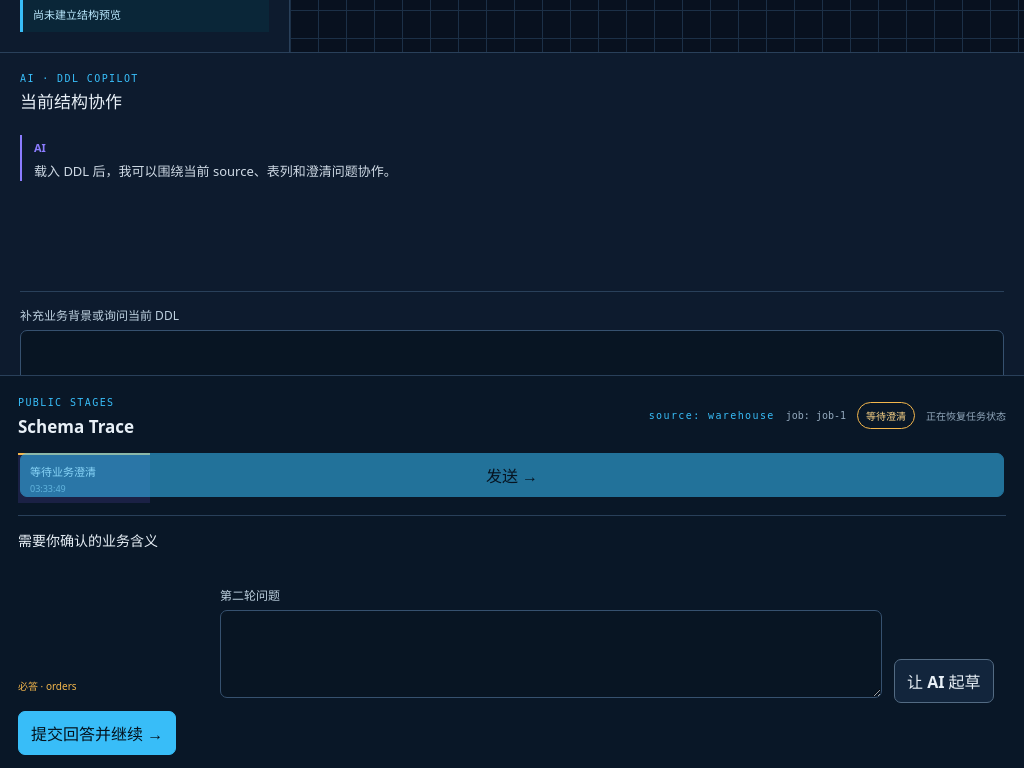
workbench chat › keeps clarification answers when the acceptance response is invalid
(page scrolled)
Step 1. Type "人工业务依据" into the text box labelled "第二轮问题" → (551, 654), box 220,610 -> 882,698
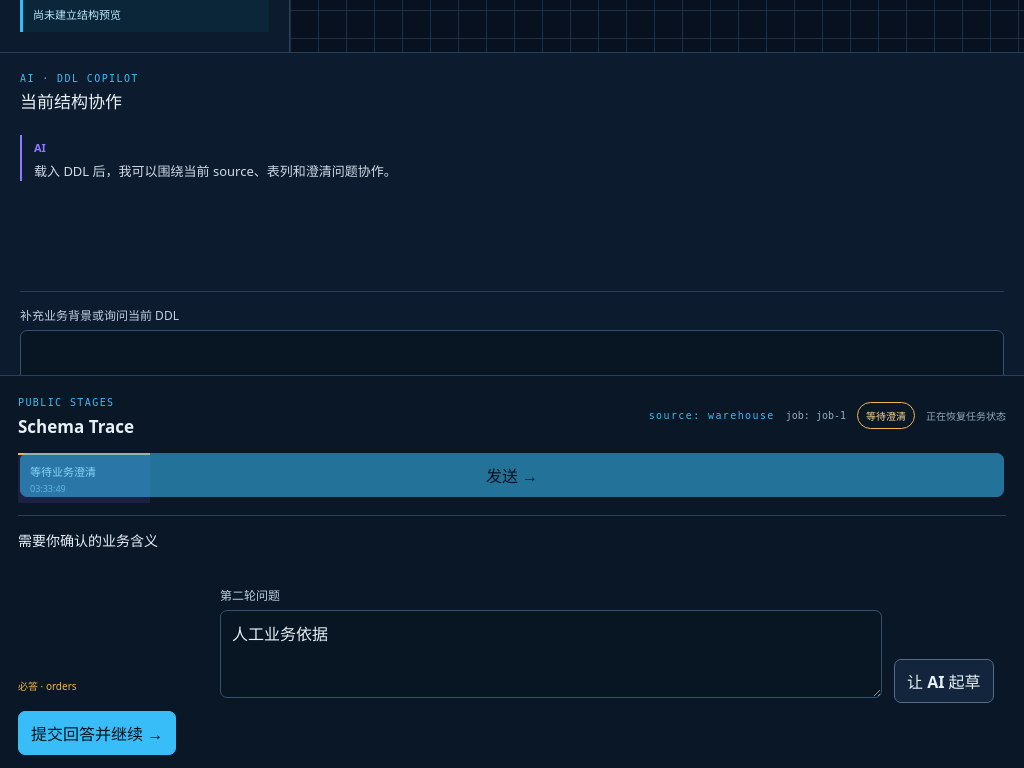
Step 2. Click the button "提交回答并继续 →" → (97, 733), box 18,711 -> 176,755
(page scrolled)
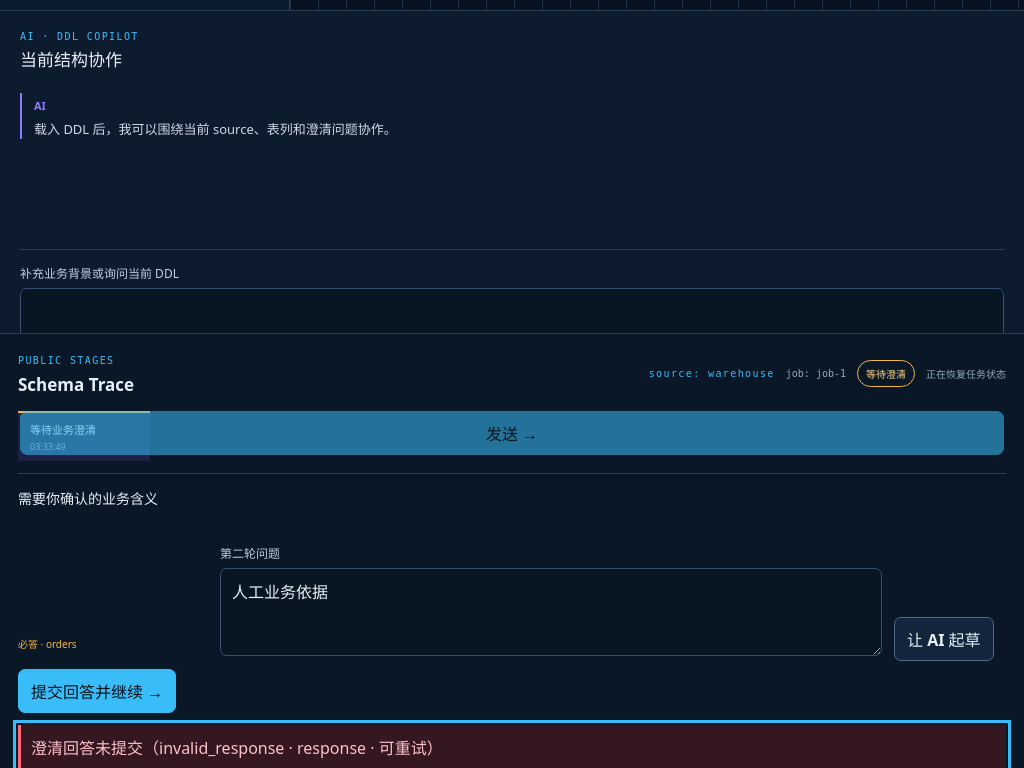
Now the text "澄清回答未提交（invalid_response · response · 可重试）" is shown, box 18,725 -> 1006,767
